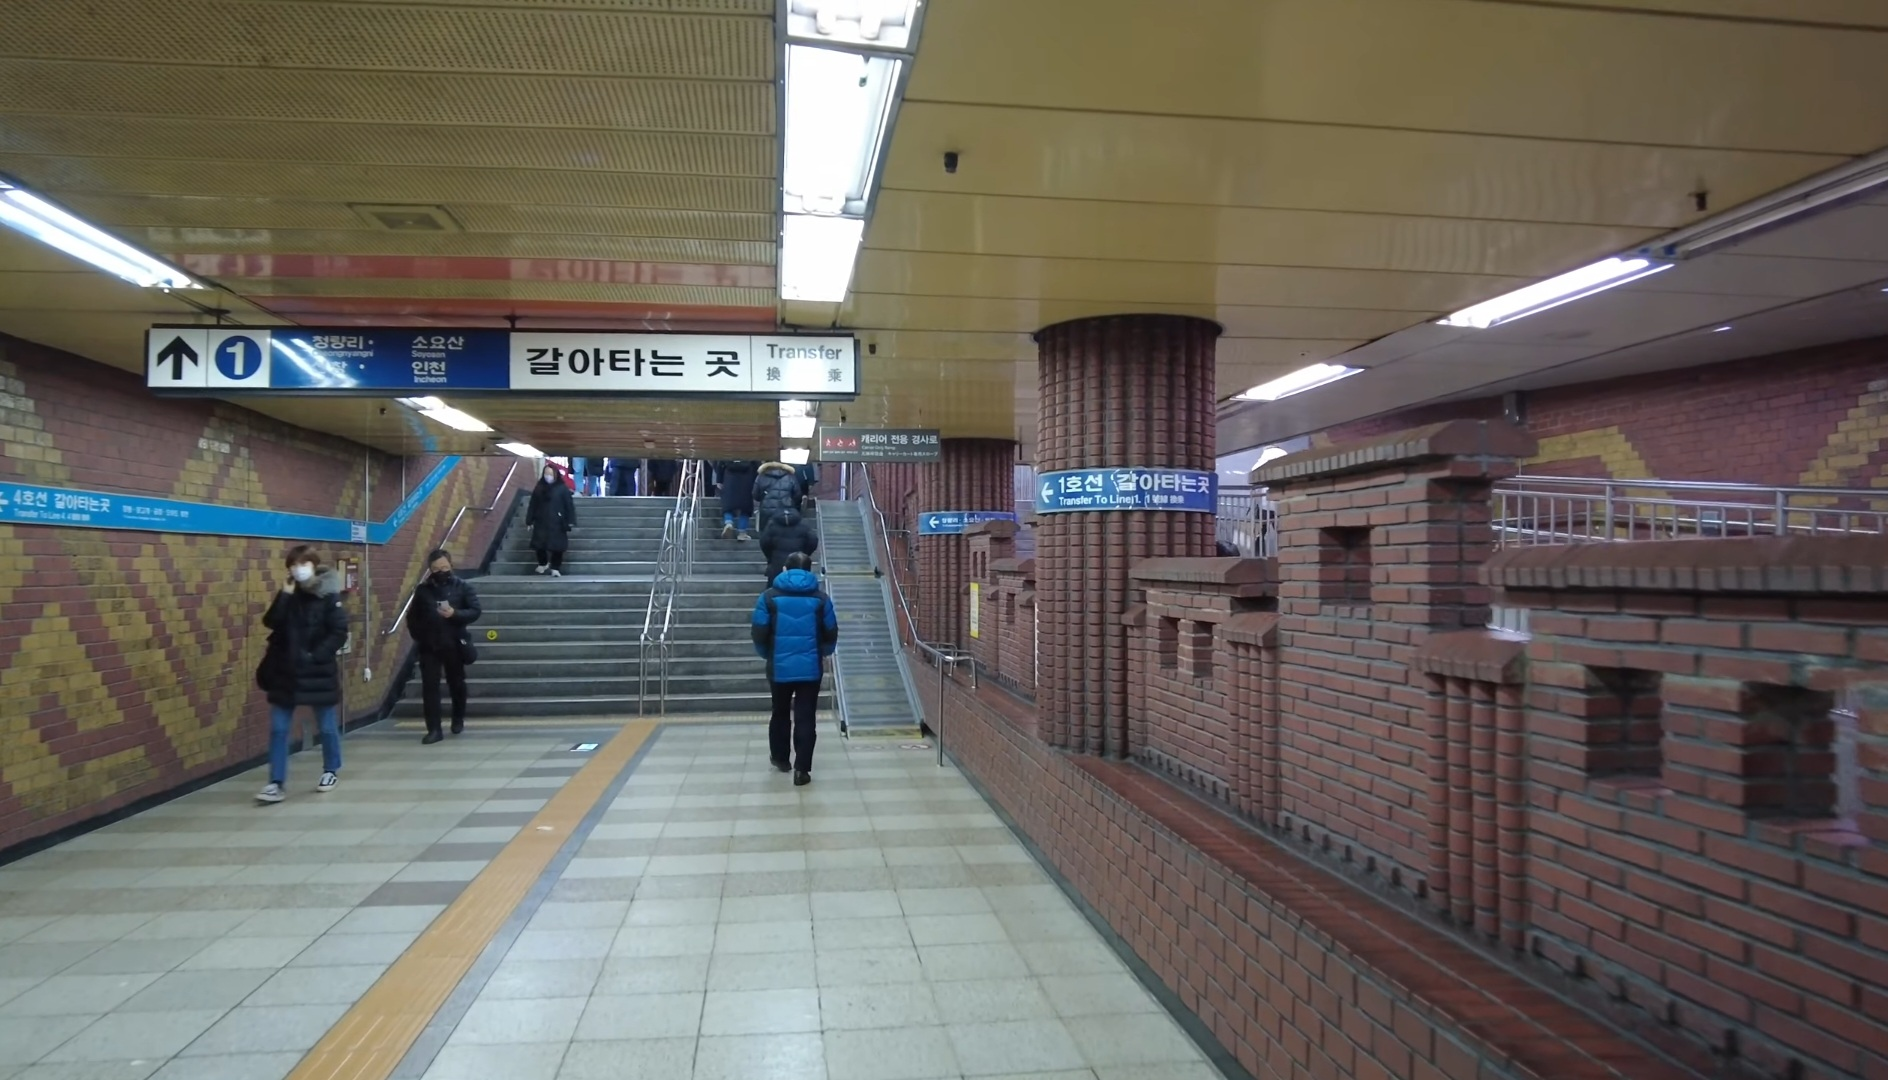signBoard: (143, 312, 867, 405)
